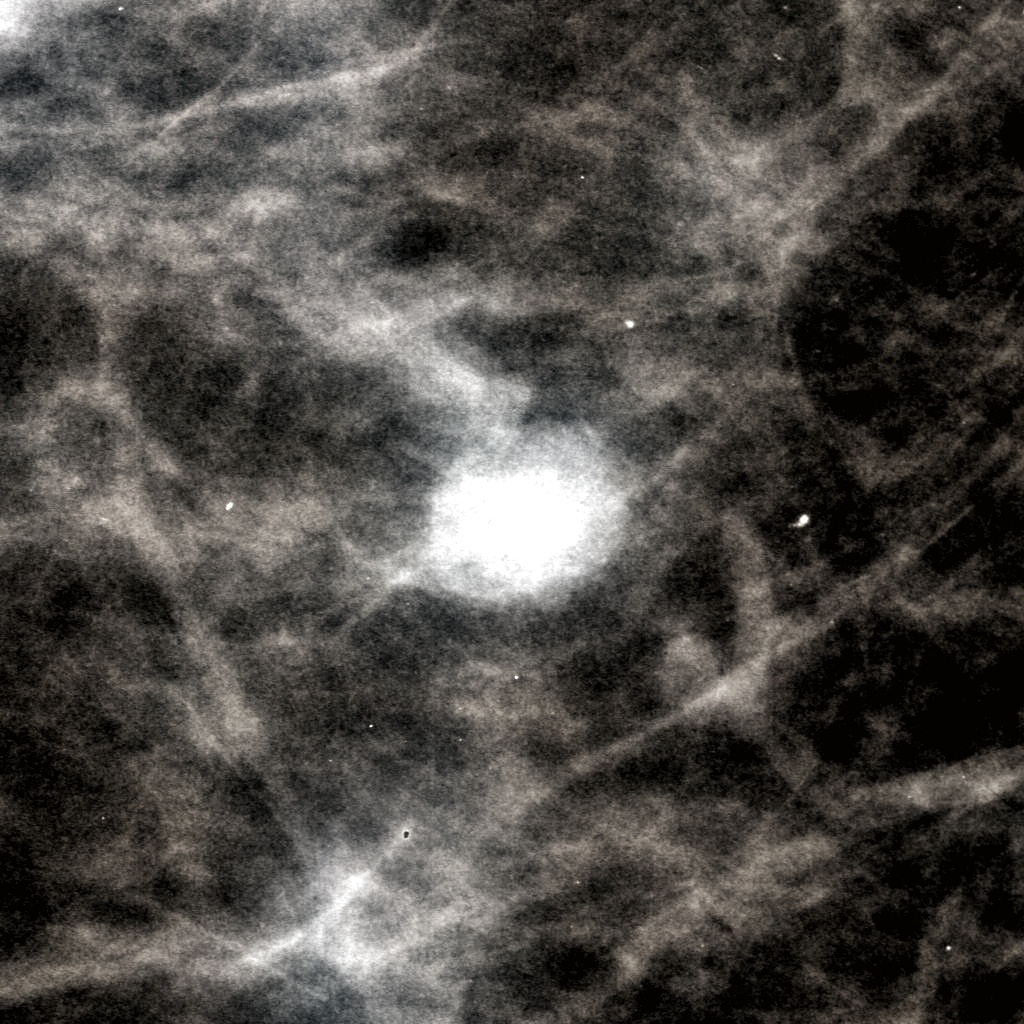tumor: (387, 415, 637, 609)
